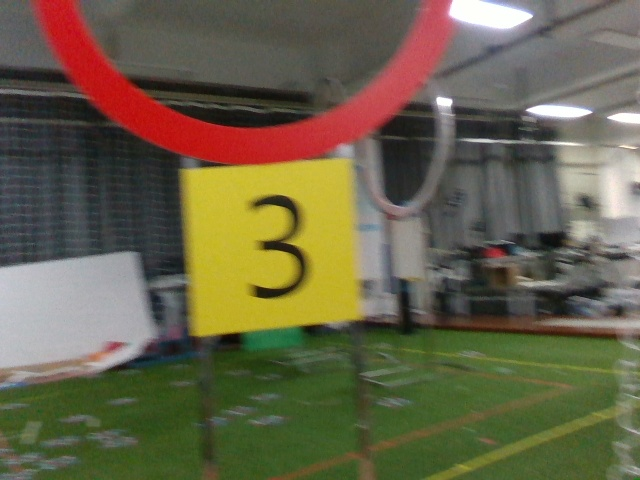target: (191, 168, 351, 324)
